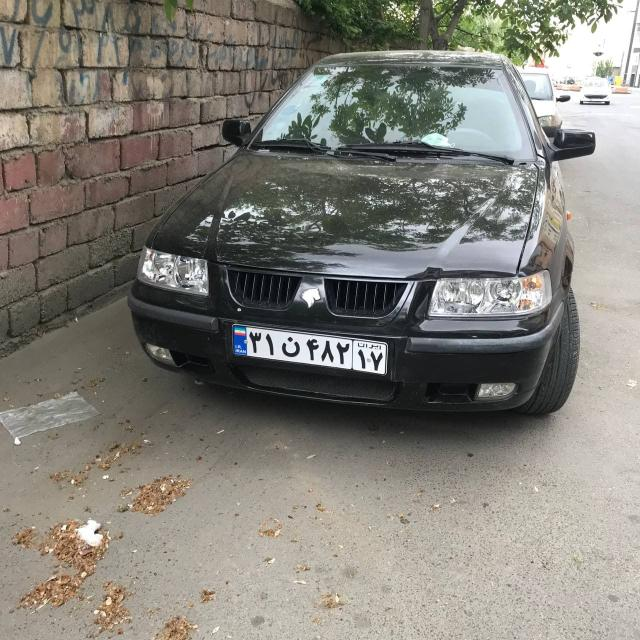Plates: (229, 325, 390, 375)
